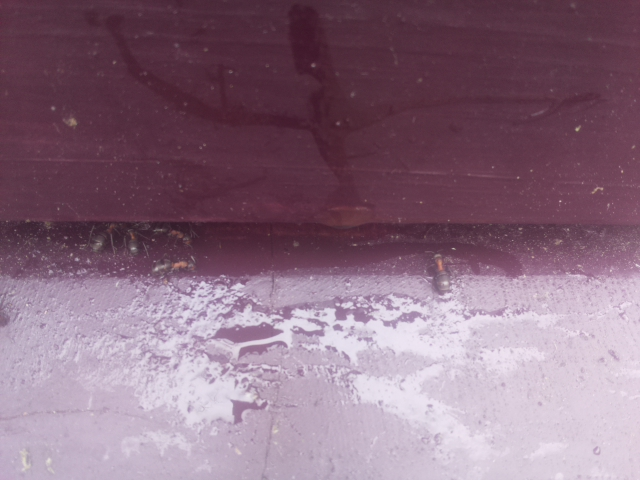ant: (427, 250, 456, 297), (149, 253, 195, 277)
